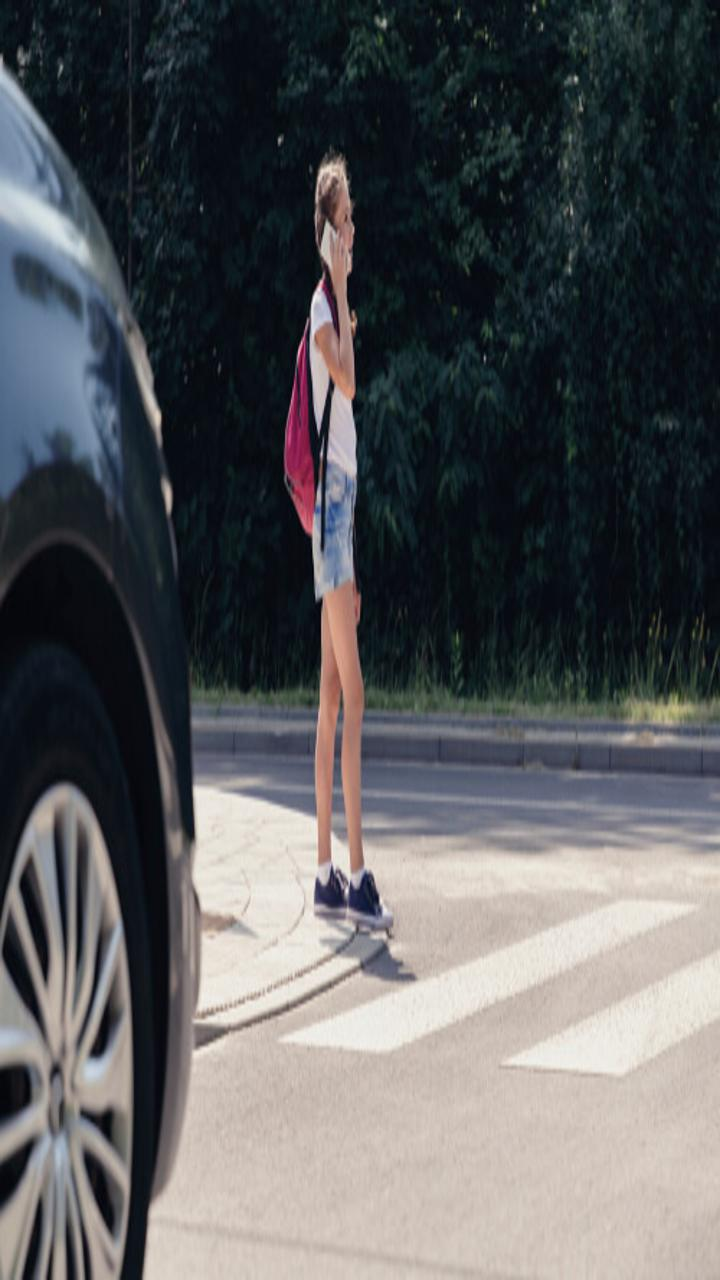pedestrian: (254, 121, 428, 977)
vehicle: (1, 68, 200, 1277)
